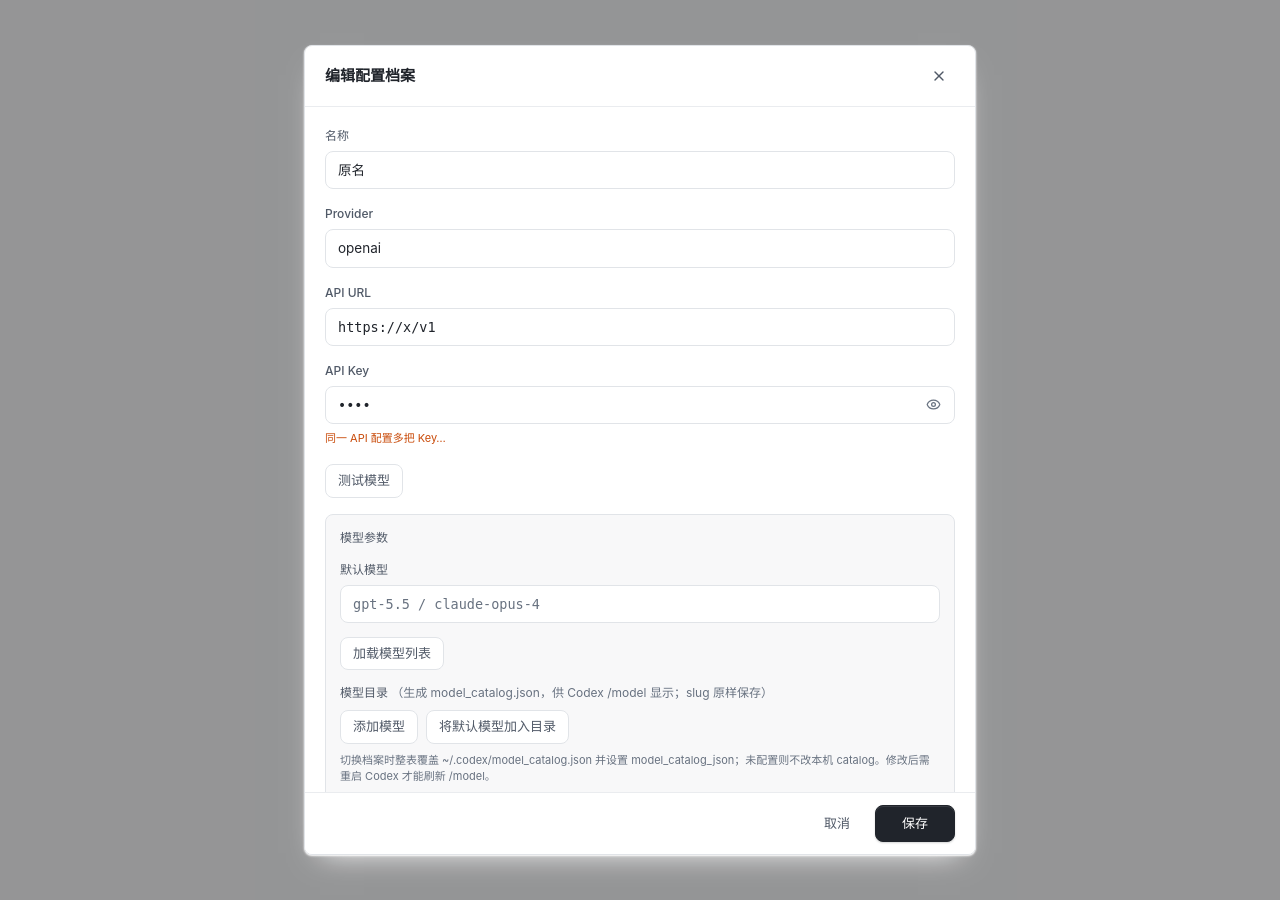
Test: 未保存修改守卫 › 选择继续编辑则留在表单，修改还在
Replace the text in the field showing "原名" with "改过的名字" at (640, 170), box [325,151,955,189]
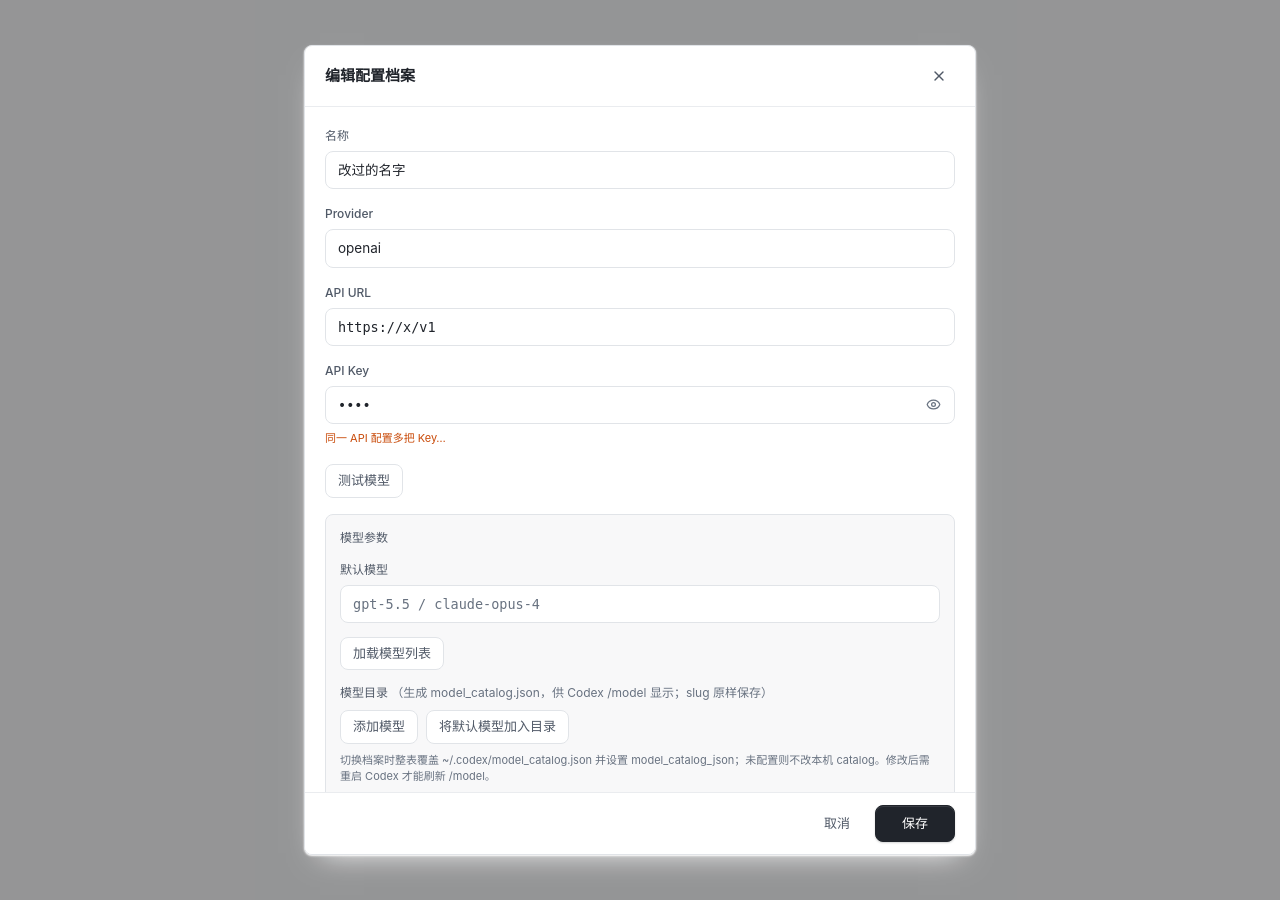
Click the button "取消" at (837, 823), box [809,804,865,842]
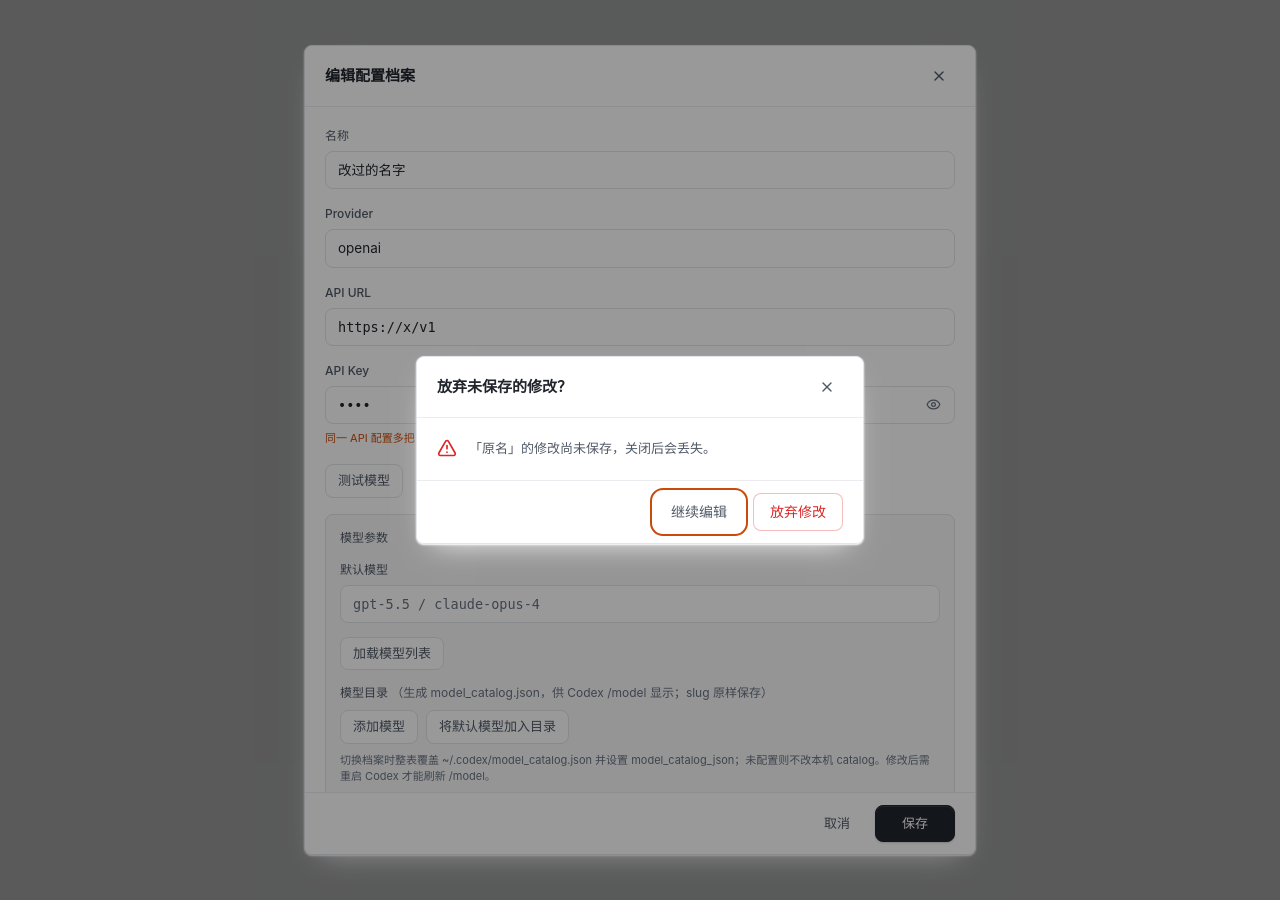
Click the button "继续编辑" at (699, 512), box [655,493,743,531]
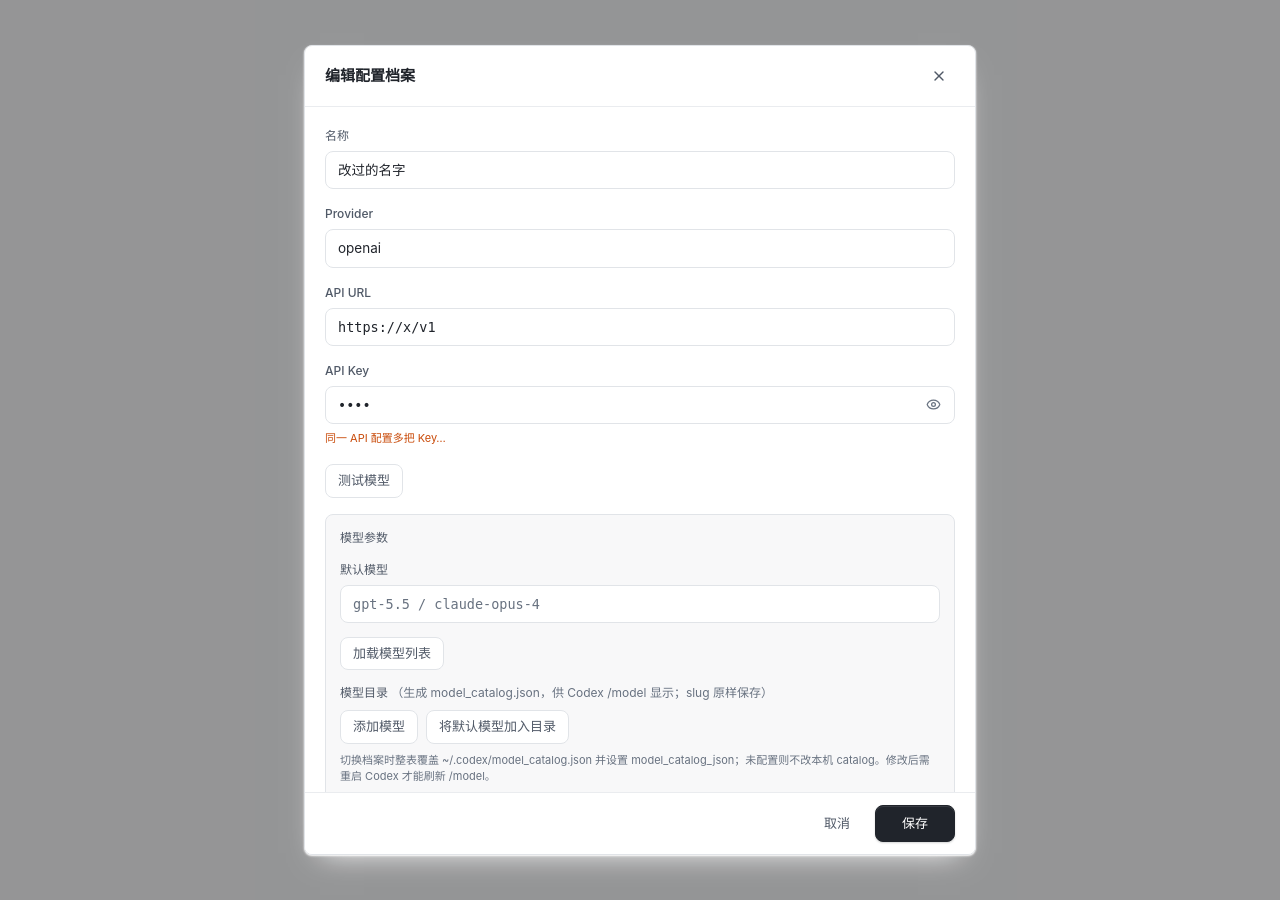
Now the dialog "放弃未保存的修改？ 「原名」的修改尚未保存，关闭后会丢失。 继续编辑 放弃修改" is gone
